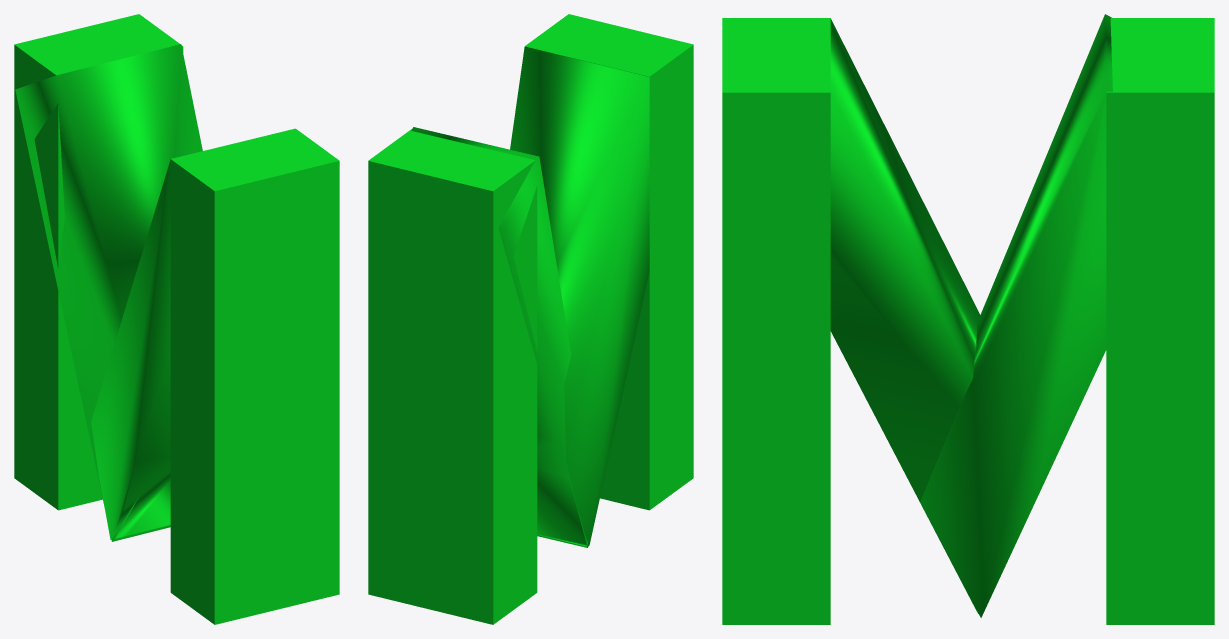
3 views of the same model, side by side, from view 1: azimuth 30°, elevation 25°; view 2: azimuth 150°, elevation 25°; view 3: azimuth 270°, elevation 25° (orthographic). The views are drawn at different scales.
Parts seen in each view (by area): view 1: 立方体; view 2: 立方体; view 3: 立方体.
Boxes of the visible parts, x1,y1,x2,y2 form: 立方体: (14,14,339,624); 立方体: (368,14,693,624); 立方体: (722,14,1214,624).
Bounding box in the file's own units: 2.09 × 6.67 × 5.56.
